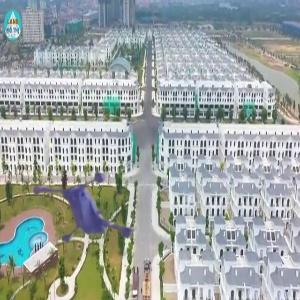drone: (42, 152, 162, 272)
